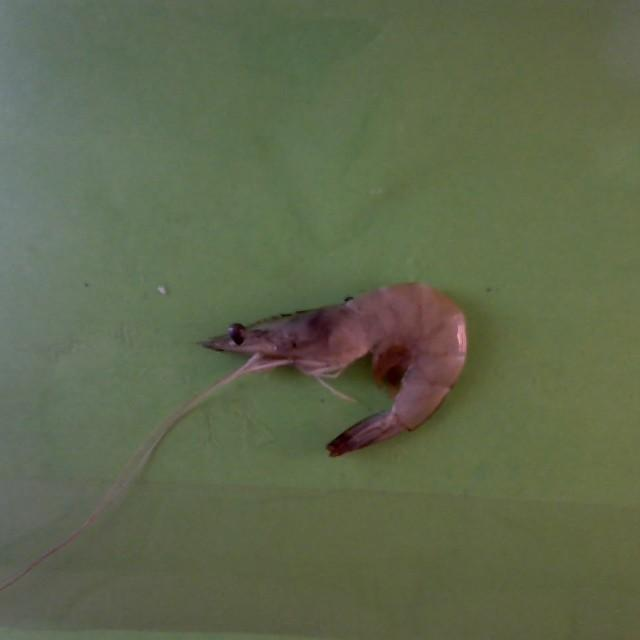shrimp: (202, 285, 468, 457)
